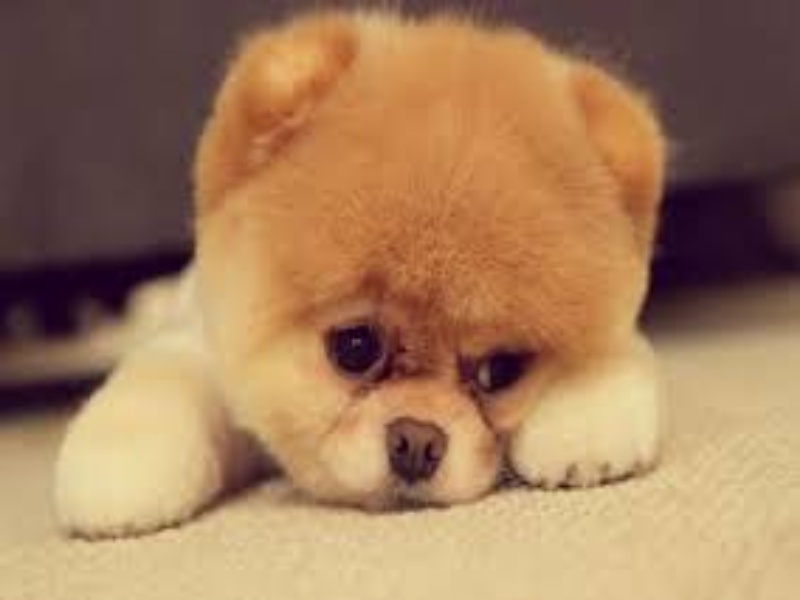dog: (59, 4, 673, 563)
